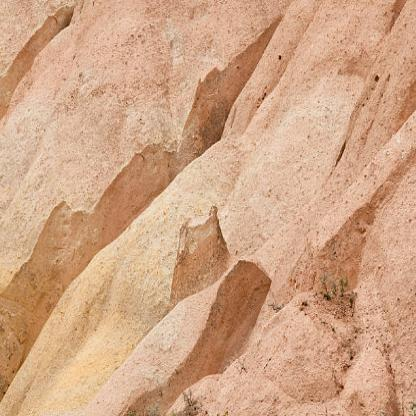Sedimentary_Sandstone: (287, 113, 412, 415), (83, 243, 259, 415), (130, 77, 249, 200), (0, 104, 102, 229), (115, 3, 244, 69), (0, 5, 101, 83)
